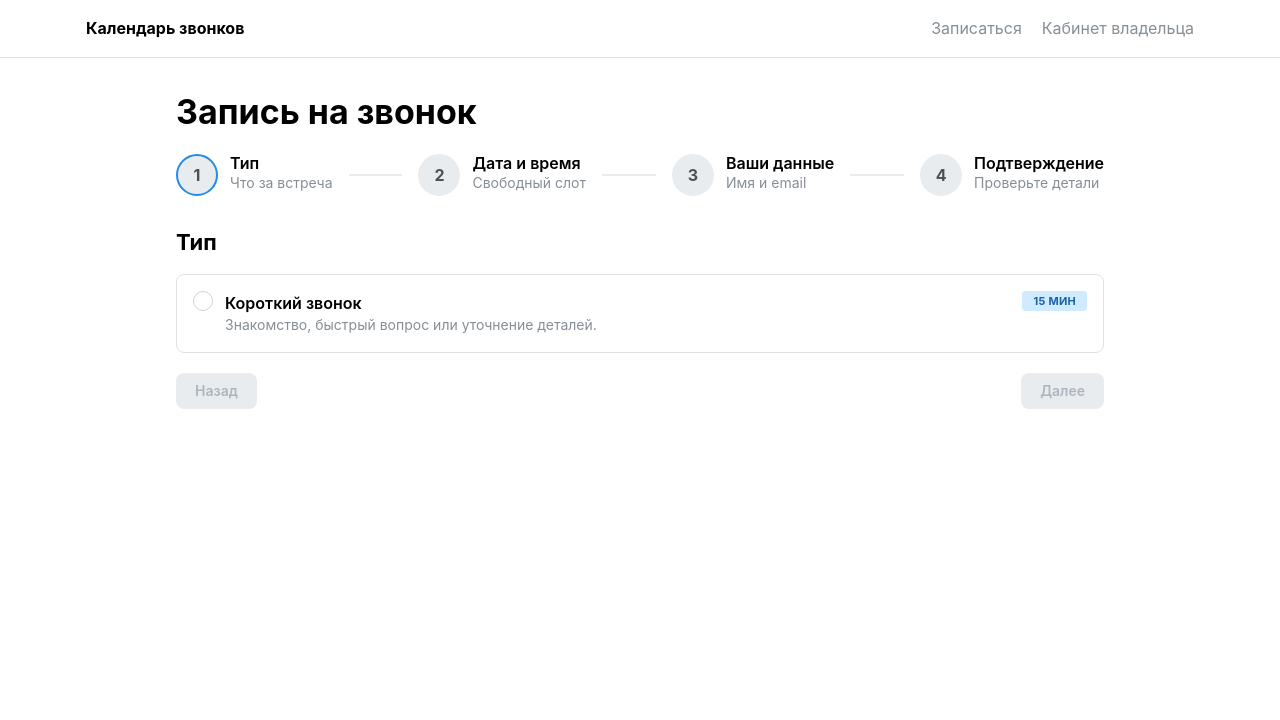
Test case: шаг 2 «Дата и время» › показывает полосу из 14 дней и сетку слотов выбранного дня
This screenshot has width=1280, height=720.
Step 1. Click the radio button labelled "Короткий звонок" → click(293, 303), box x1=176 y1=274 x2=1104 y2=353
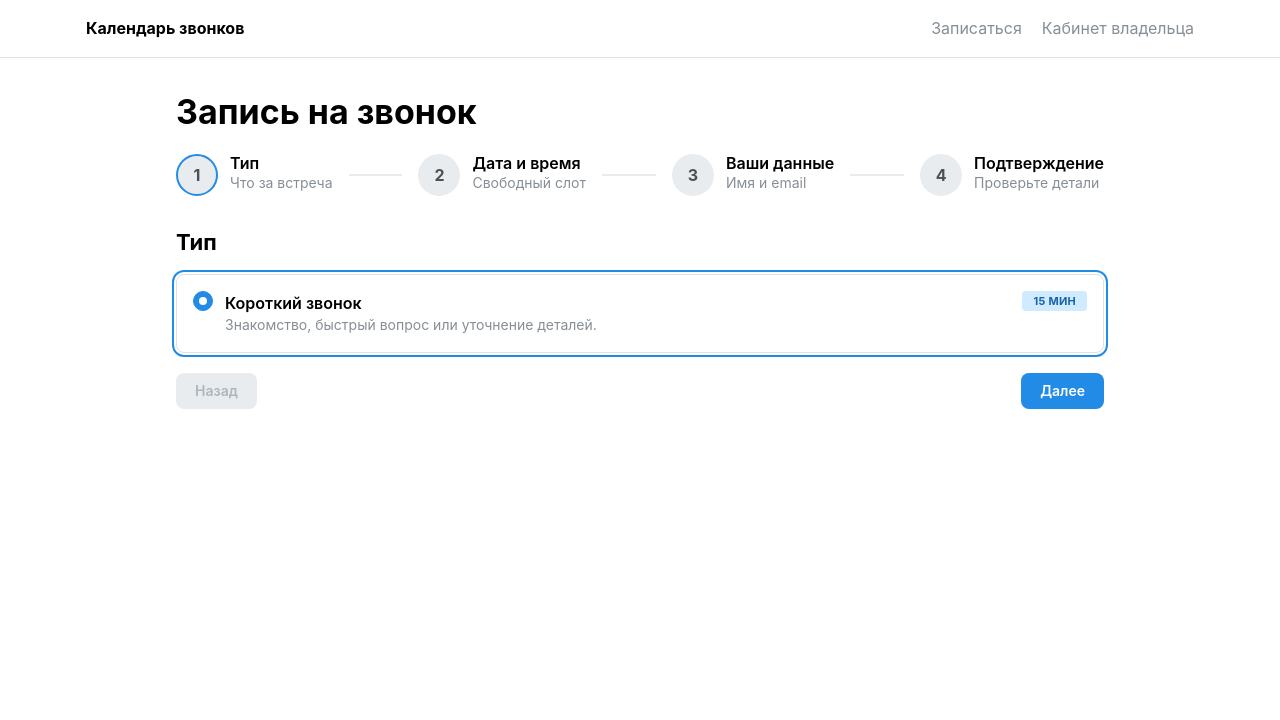
Step 2. Click the button "Далее" → click(1063, 391), box x1=1021 y1=373 x2=1104 y2=409
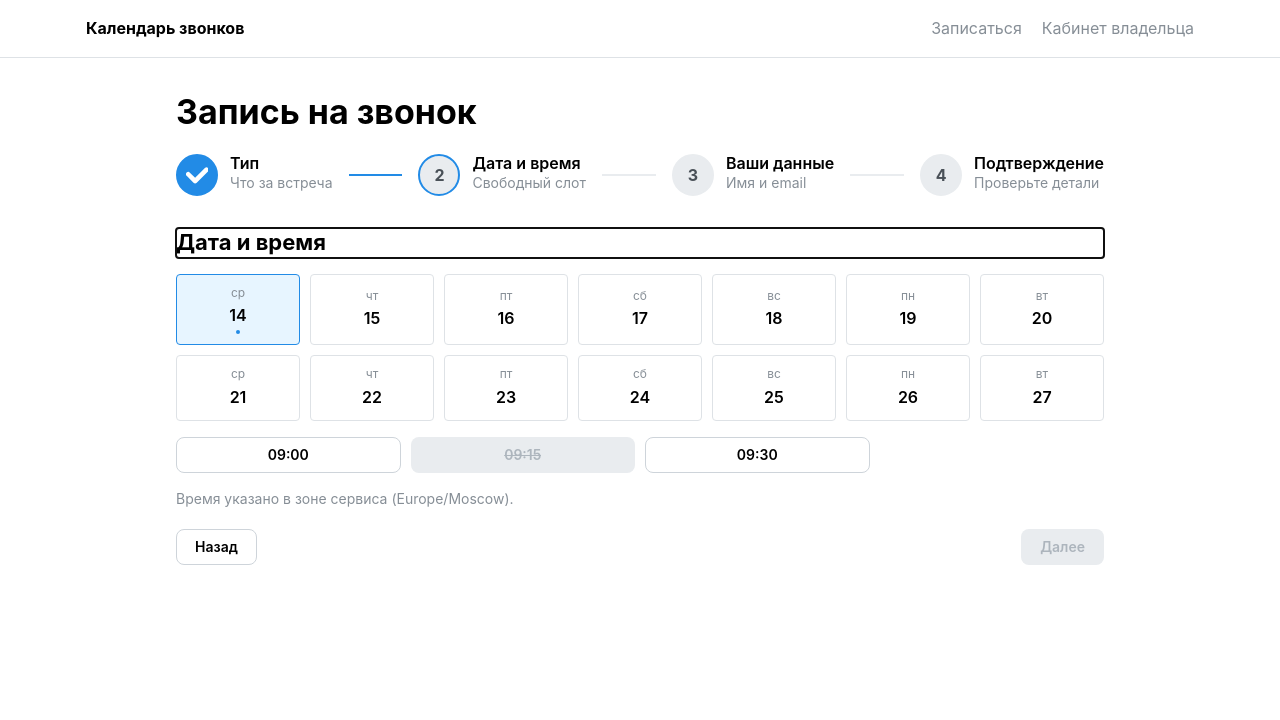
Expected: the number of radio buttons is 14
Expected: the button "09:00" is enabled, x1=176 y1=437 x2=400 y2=473
Expected: the button "09:30" is enabled, x1=645 y1=437 x2=870 y2=473
